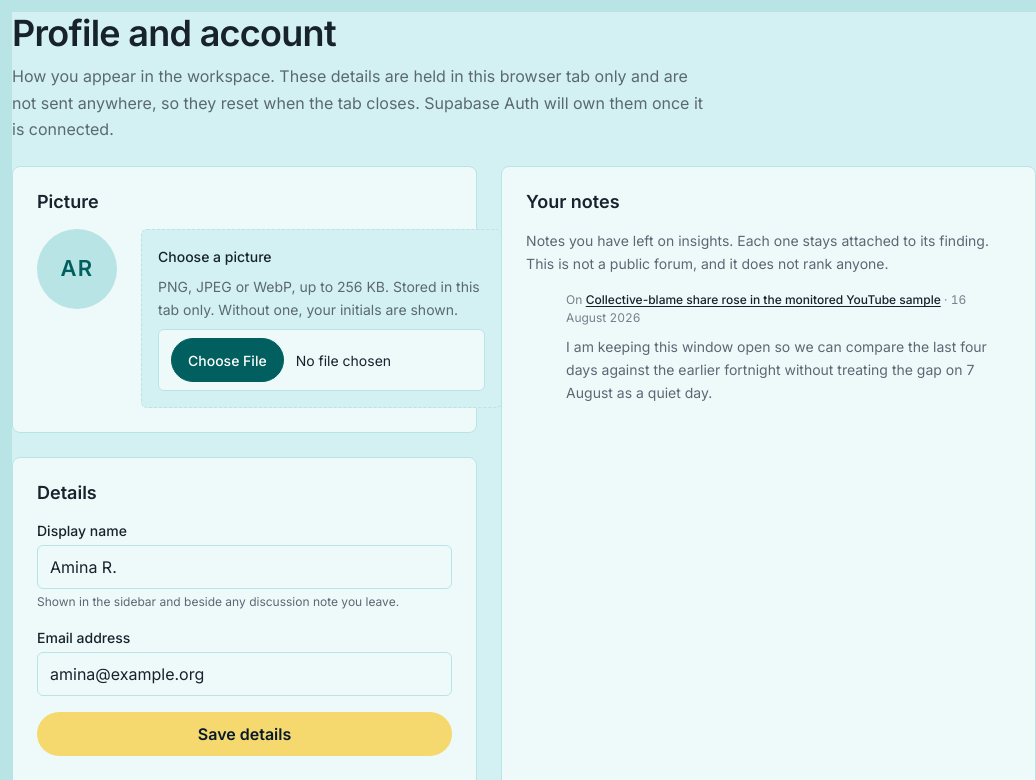
Test: ProfilePage › refuses an empty display name
Clear the field labelled "Display name". click: (245, 567)
box: 37,545 -> 452,589
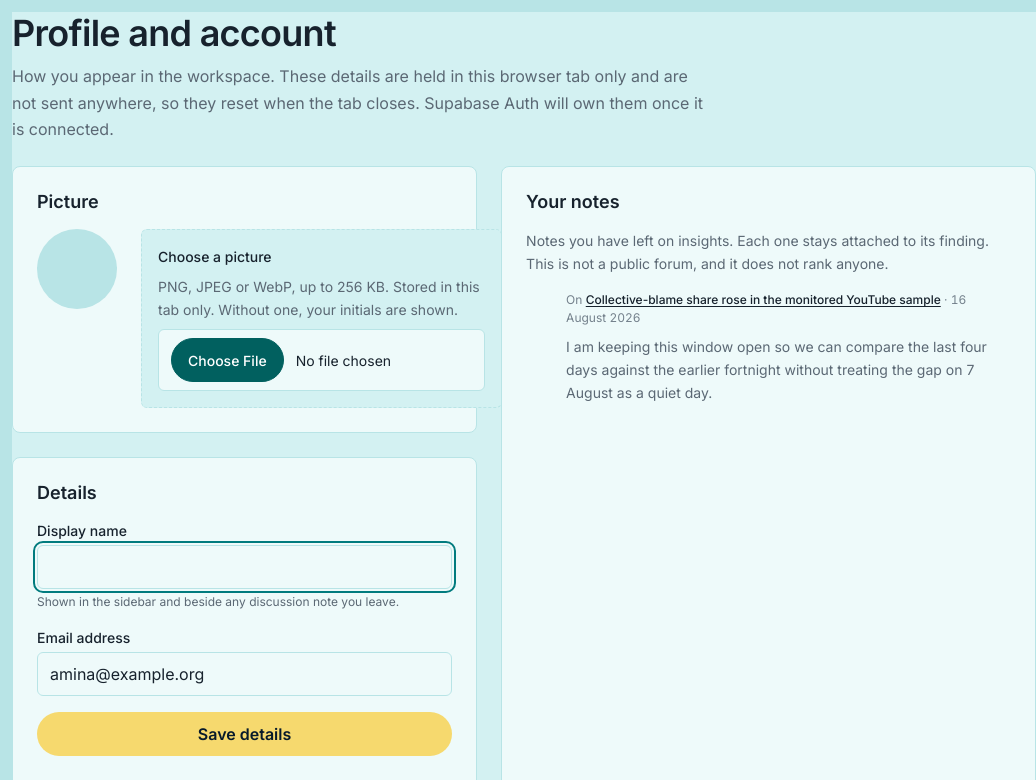
Click the button "Save details". click: click(245, 734)
box: 37,712 -> 452,756
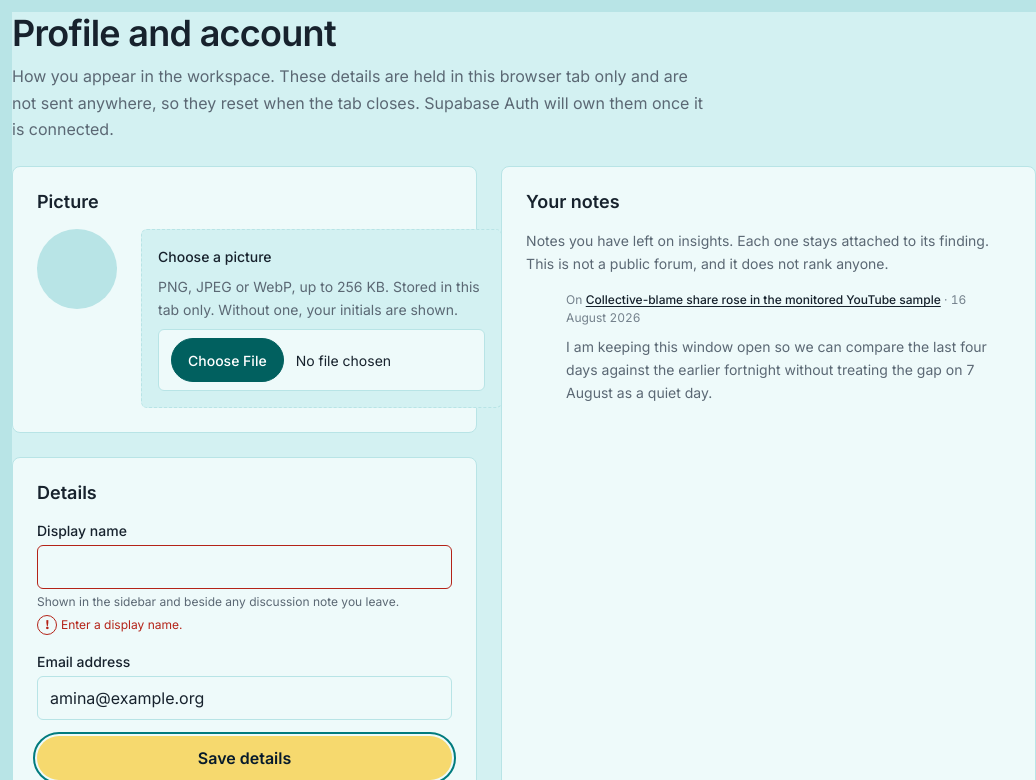
Result: the text "Enter a display name." is shown at 61,617 -> 182,632
